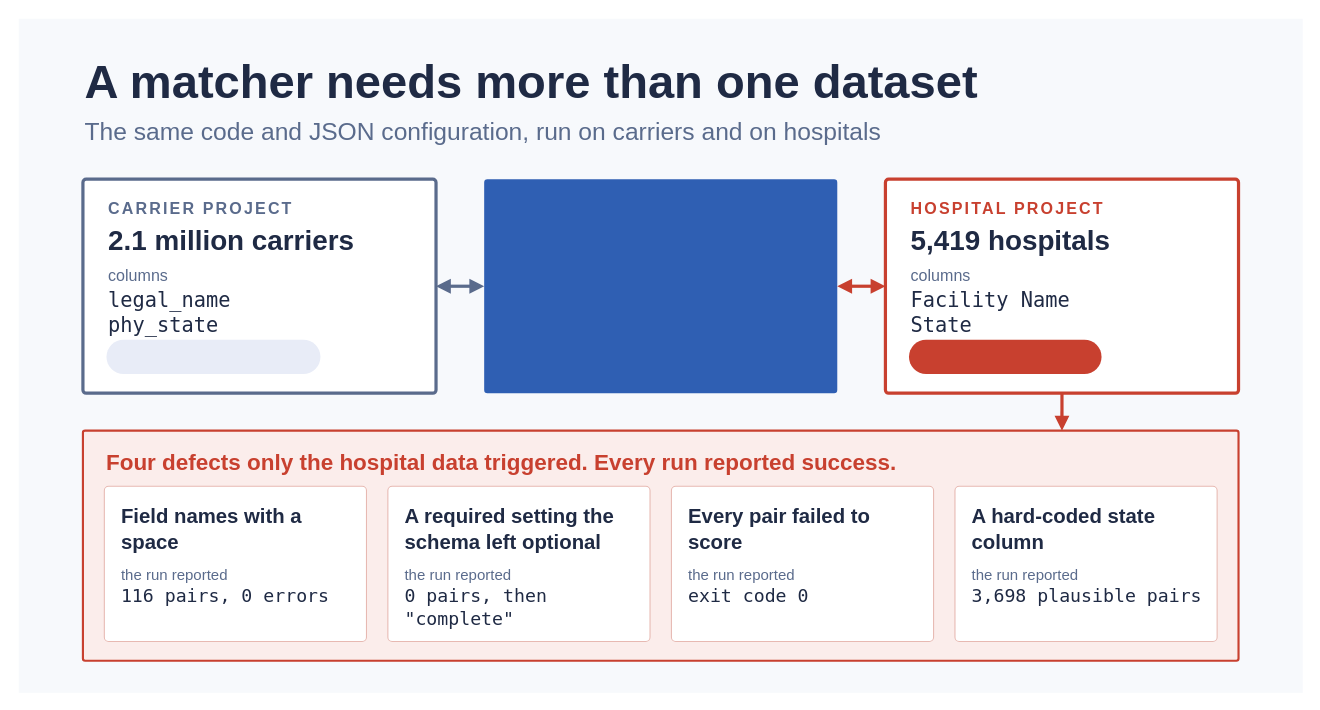
This 1320x710 diagram has some shape labels left out. Each missing label, with the centre of its shape:
"4 defects exposed" goes at (1004,356).
"defects stayed hidden" goes at (213,356).
"SHARED ENGINE Same Python code A JSON configuration for each dataset" goes at (660,286).
